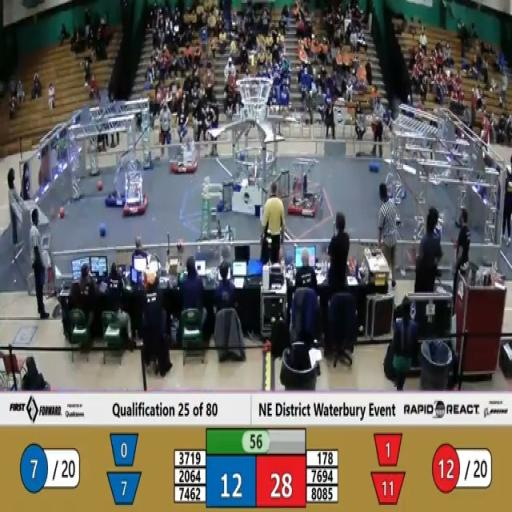robot: (191, 201, 236, 267), (283, 150, 322, 220), (118, 159, 150, 221), (167, 130, 200, 179), (101, 157, 126, 212)
